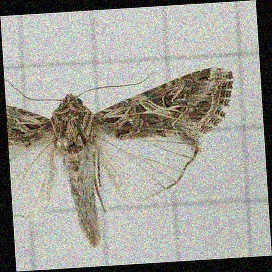Spodoptera litura: (9, 71, 239, 247)
